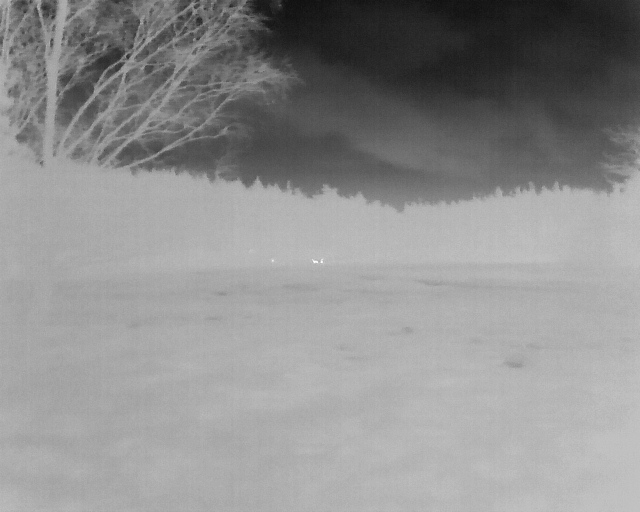Deer: (311, 258, 319, 264), (320, 258, 324, 263), (271, 259, 274, 262)
